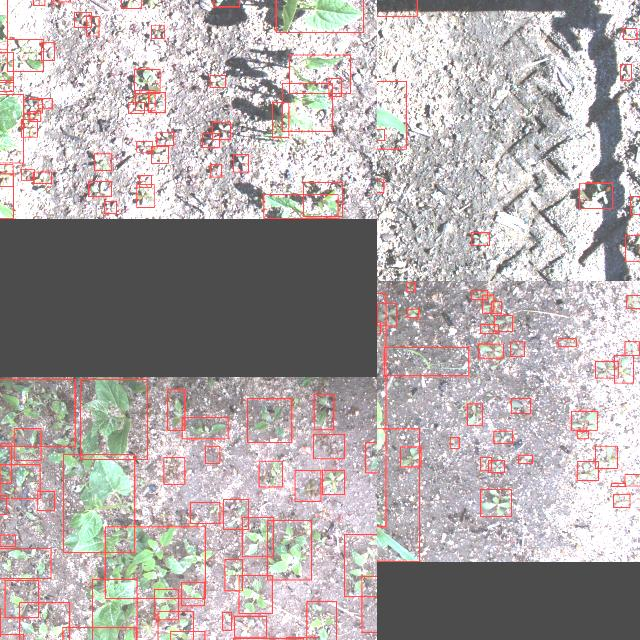crop: (63, 454, 134, 552), (80, 379, 146, 459), (275, 0, 363, 32), (91, 579, 136, 640), (288, 54, 349, 94), (282, 83, 332, 131), (263, 195, 337, 219), (0, 94, 23, 163), (0, 173, 12, 218)
weed: (104, 526, 204, 598), (0, 378, 74, 445), (267, 520, 311, 580), (384, 346, 468, 376), (343, 533, 377, 596), (246, 398, 292, 442), (19, 603, 69, 640), (0, 548, 50, 578), (303, 182, 342, 216), (0, 464, 39, 498), (4, 580, 38, 618), (238, 575, 272, 613), (242, 517, 272, 557), (306, 601, 336, 640), (7, 39, 43, 71), (181, 417, 227, 439), (157, 612, 192, 640), (14, 428, 41, 460), (578, 184, 612, 208), (480, 489, 510, 516), (294, 471, 320, 502), (222, 499, 248, 529), (312, 434, 343, 458), (313, 394, 333, 430), (166, 389, 184, 429), (154, 590, 178, 620), (234, 616, 266, 638), (189, 502, 219, 524), (133, 69, 159, 93), (258, 461, 282, 487), (163, 456, 184, 484), (272, 102, 288, 138), (613, 355, 633, 383), (180, 582, 203, 606), (224, 560, 242, 590), (322, 470, 344, 494), (570, 410, 596, 430), (595, 446, 617, 468), (594, 360, 618, 378), (576, 462, 598, 481), (377, 303, 396, 325), (624, 235, 640, 261), (136, 185, 154, 208), (135, 91, 155, 111), (0, 443, 10, 483), (400, 447, 420, 467), (364, 442, 377, 472), (0, 52, 12, 82), (36, 491, 54, 511), (478, 344, 502, 358), (150, 146, 168, 164), (212, 122, 230, 140), (148, 92, 164, 112), (510, 398, 530, 414), (466, 404, 482, 424), (88, 182, 110, 196), (232, 154, 248, 172), (201, 132, 219, 148), (93, 154, 111, 170), (21, 119, 37, 137), (204, 445, 220, 463), (494, 315, 512, 331), (22, 99, 42, 113), (0, 165, 12, 187), (85, 16, 98, 36), (74, 12, 90, 28), (156, 132, 174, 146), (40, 42, 54, 60), (612, 494, 630, 508), (32, 172, 52, 184), (492, 431, 512, 443), (471, 232, 489, 245), (624, 341, 640, 355), (328, 78, 340, 96), (623, 474, 640, 486), (629, 196, 640, 214), (510, 342, 524, 356), (128, 102, 144, 114), (488, 461, 504, 473), (213, 0, 239, 7), (150, 24, 163, 38), (480, 324, 498, 334), (482, 295, 492, 313), (210, 75, 224, 87), (626, 296, 640, 308), (0, 534, 15, 545), (136, 142, 152, 152), (121, 0, 141, 8), (620, 64, 630, 80), (471, 290, 487, 300), (209, 165, 221, 178), (139, 176, 151, 188), (104, 202, 116, 214), (222, 612, 230, 630), (557, 338, 575, 346), (0, 80, 13, 91), (37, 98, 51, 108), (622, 28, 636, 38), (21, 170, 34, 180), (480, 458, 490, 470), (491, 301, 501, 313), (518, 455, 532, 463), (30, 111, 40, 121), (408, 308, 418, 318), (0, 495, 5, 514), (449, 438, 458, 448), (406, 282, 414, 292), (377, 179, 383, 192), (377, 129, 384, 140), (576, 432, 588, 438), (610, 483, 626, 487), (32, 0, 44, 5)
